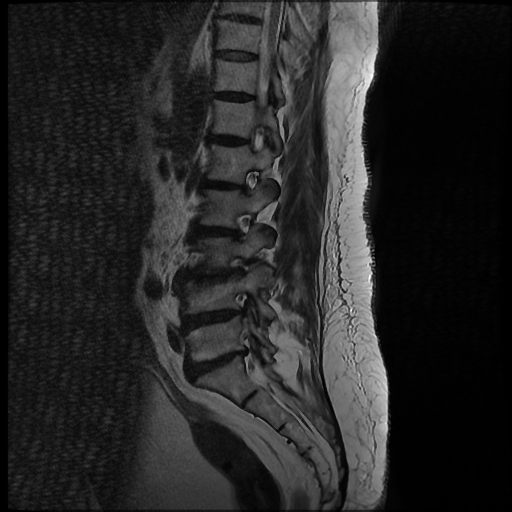LFS0: (226, 202, 257, 246), (232, 163, 264, 198)
LFS3: (225, 248, 258, 285)
